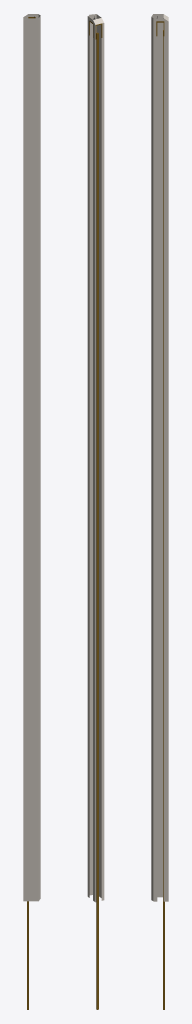
Rendered from closet-mod.glb.
3 views of the same model, side by side, from view 1: azimuth 90°, elevation 25°; view 2: azimuth 210°, elevation 25°; view 3: azimuth 270°, elevation 25° (orthographic).
Parts seen in each view (by area): view 1: Walls, Cube; view 2: Walls, Cube; view 3: Walls, Cube.
Part boxes in pixels (bbox=[...]): Walls: bbox=[23, 14, 40, 901]; Cube: bbox=[27, 901, 28, 1009]; Walls: bbox=[87, 14, 104, 902]; Cube: bbox=[96, 32, 98, 1009]; Walls: bbox=[151, 14, 168, 901]; Cube: bbox=[163, 30, 164, 1009].
Bounding box in the file's own units: 1.44 × 155 × 2.46.
